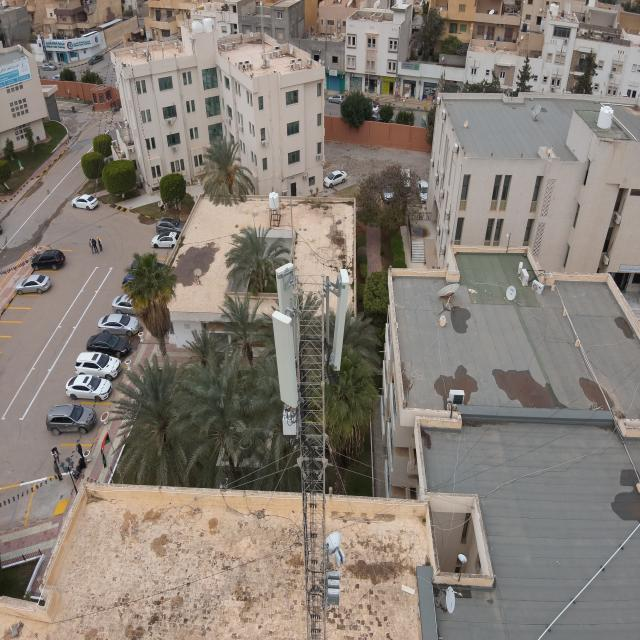antenna: (272, 311, 300, 409), (331, 266, 349, 372), (275, 260, 295, 314)
lighnig-rad: (288, 176, 296, 282)
microware-dish: (323, 528, 346, 569)
power-box: (326, 569, 342, 607)
radio-unit: (280, 404, 300, 436)
